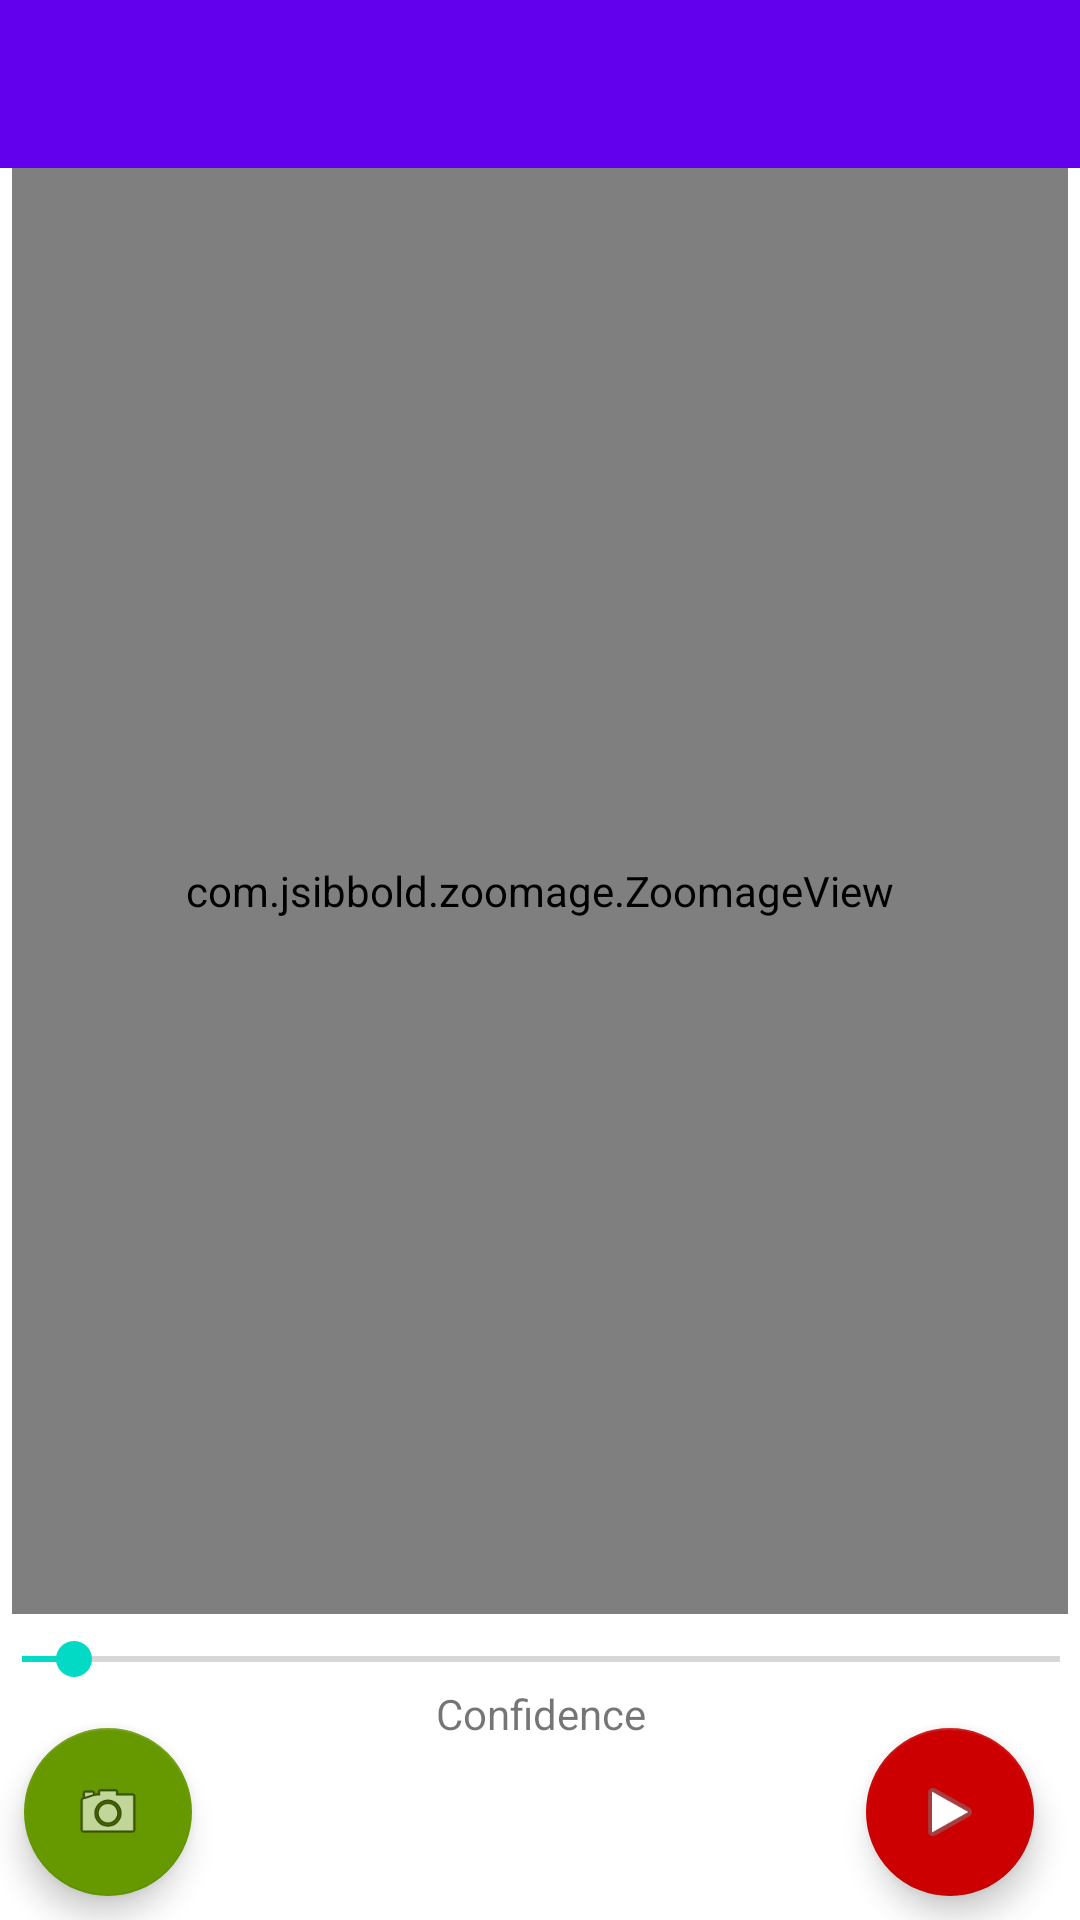

Locate icon controls on the screen. Image size 1080x1920, boxes as [left=x1, top=y1, right=x2, bottom=y2].
camera: [left=24, top=1728, right=192, bottom=1896]
play: [left=866, top=1728, right=1034, bottom=1896]
